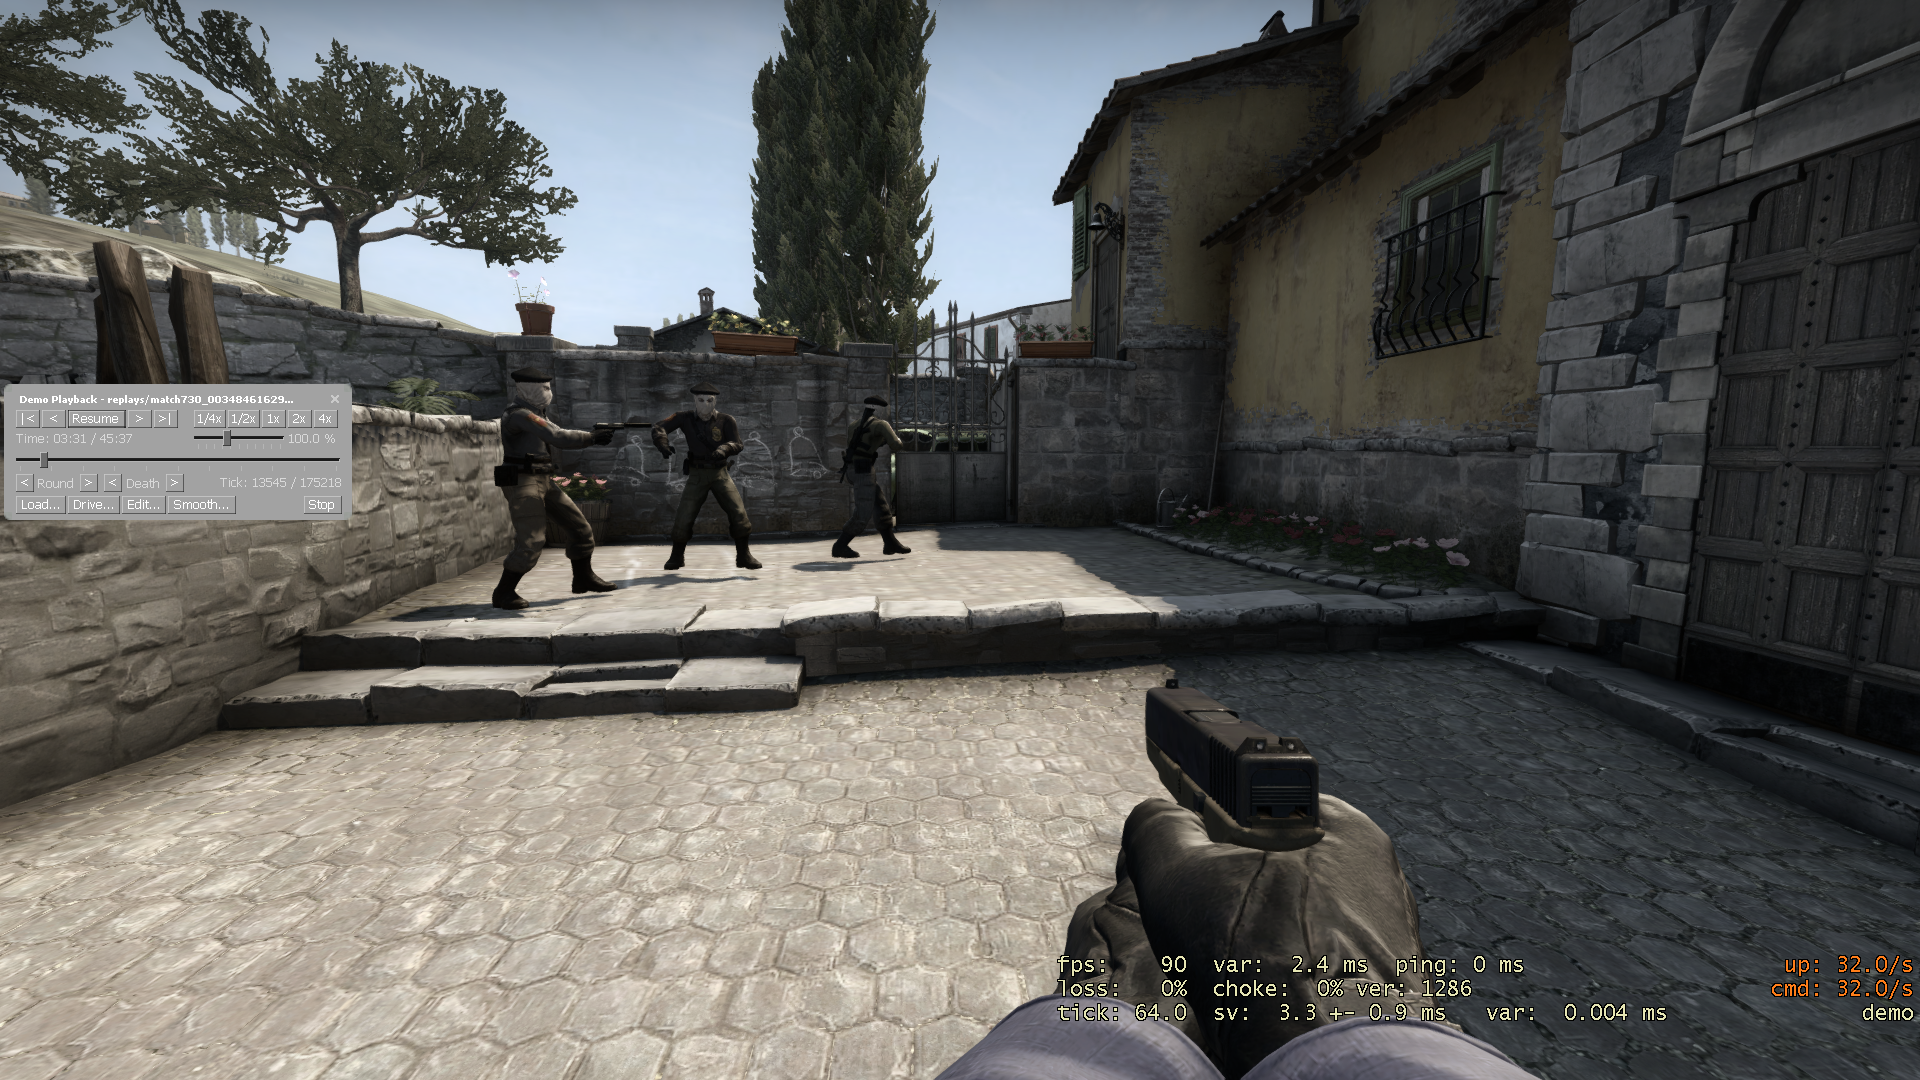t: (491, 365, 620, 612), (651, 382, 764, 572), (828, 396, 911, 556)
